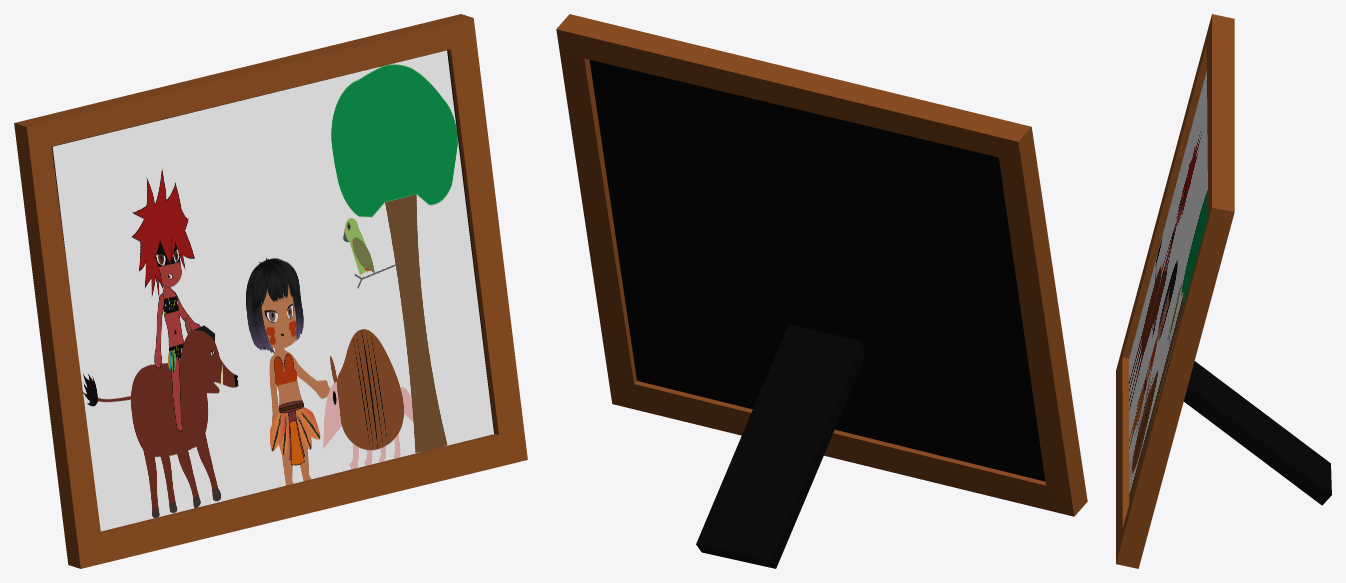
File: texxxxxxxt.fbx
3 views of the same model, side by side, from view 1: azimuth 30°, elevation 25°; view 2: azimuth 150°, elevation 25°; view 3: azimuth 270°, elevation 25° (orthographic). The views are drawn at different scales.
Parts seen in each view (by area): view 1: Plane.002, Plane, Cube; view 2: Cube, Plane, Cube.001; view 3: Plane, Plane.002, Cube.001.
Part boxes in pixels (left/top/right/bottom): Plane.002: left=52, top=50, right=493, bottom=531; Plane: left=14, top=14, right=527, bottom=568; Cube: left=51, top=50, right=494, bottom=433; Cube: left=589, top=60, right=1045, bottom=481; Plane: left=556, top=14, right=1087, bottom=516; Cube.001: left=696, top=324, right=864, bottom=568; Plane: left=1116, top=14, right=1234, bottom=568; Plane.002: left=1129, top=71, right=1208, bottom=503; Cube.001: left=1183, top=361, right=1331, bottom=505.
Size of the model in its own units: 200 by 183 by 94.38.
